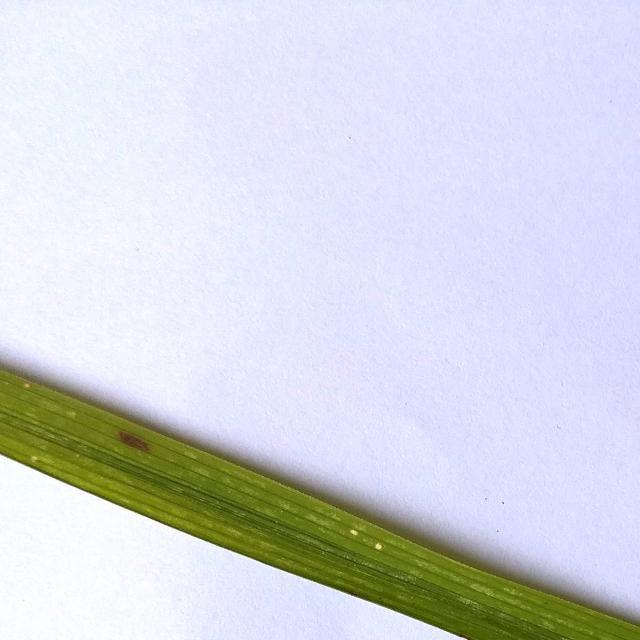brownspots: (109, 419, 154, 468)
